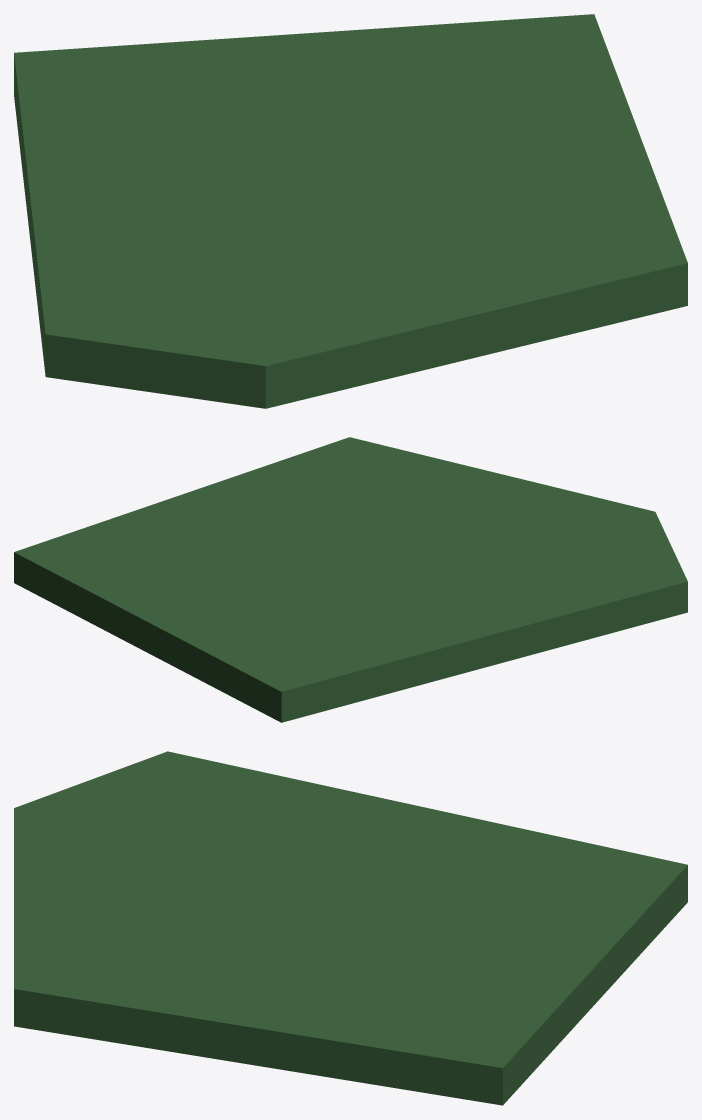
Rendered from x_proval_00_134_1_rmstrd.fbx.
3 views of the same model, one above another, from view 1: azimuth 30°, elevation 25°; view 2: azimuth 150°, elevation 25°; view 3: azimuth 270°, elevation 25° (orthographic). The views are drawn at different scales.
Visible parts, largest first — view 1: x_proval_00_134_1_rmstrd1; view 2: x_proval_00_134_1_rmstrd1; view 3: x_proval_00_134_1_rmstrd1.
Boxes of the visible parts, x1=… form: x_proval_00_134_1_rmstrd1: x1=14, y1=14, x2=687, y2=408; x_proval_00_134_1_rmstrd1: x1=14, y1=437, x2=687, y2=722; x_proval_00_134_1_rmstrd1: x1=14, y1=751, x2=687, y2=1105.
Size of the model in its own units: 3.62 by 0.2 by 3.26.
